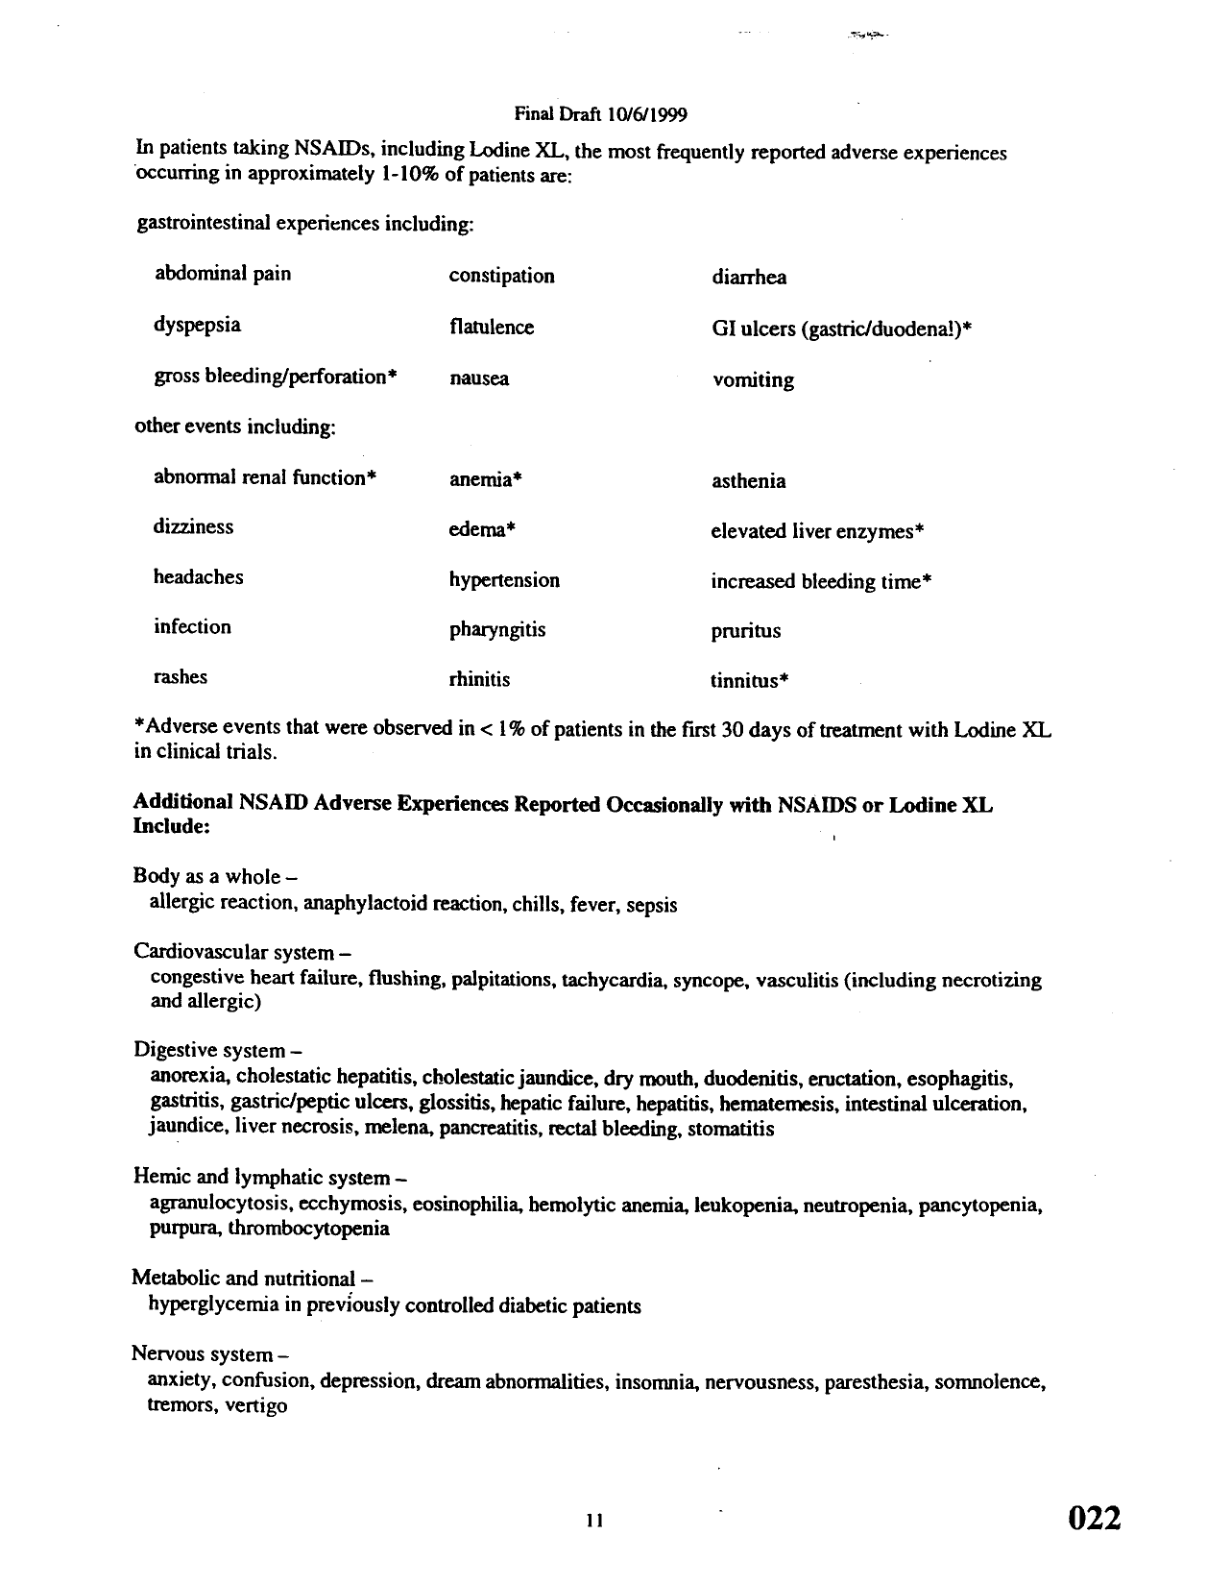nolines: (138, 264, 974, 696)
